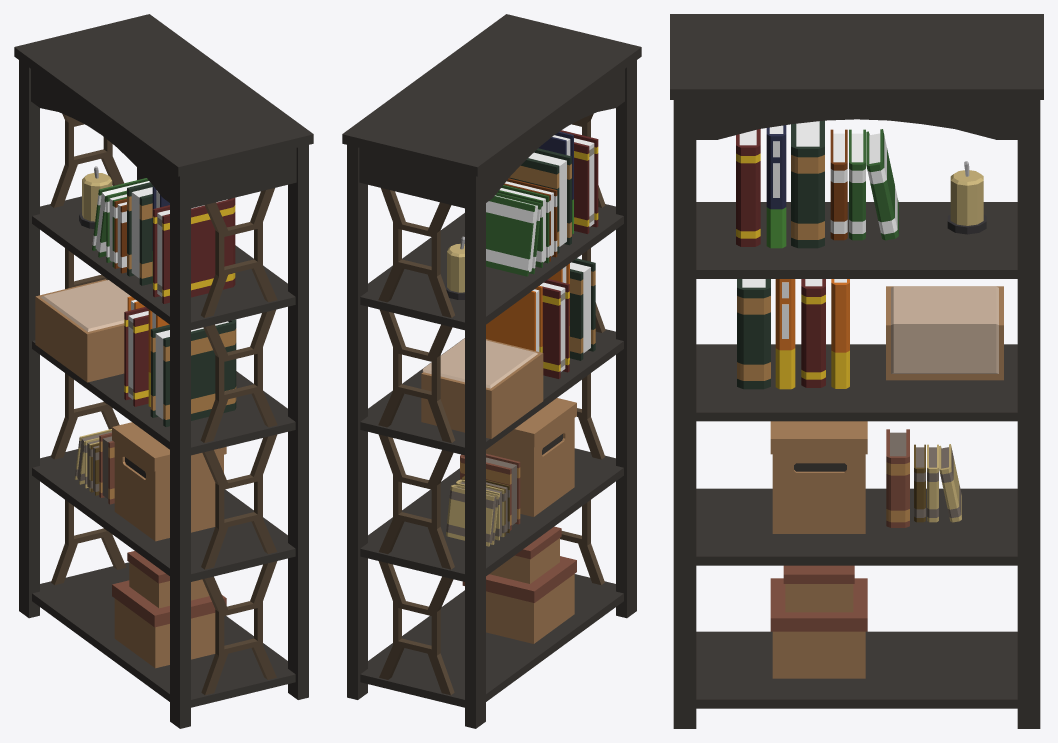
Rendered from SM_Bookcase_04.glb.
3 renders of one model, left to right at view 1: azimuth 30°, elevation 25°; view 2: azimuth 150°, elevation 25°; view 3: azimuth 270°, elevation 25°, orthographic. The views are drawn at different scales.
Parts seen in each view (by area): view 1: SM_Bookcase_04; view 2: SM_Bookcase_04; view 3: SM_Bookcase_04.
Boxes of the visible parts, x1,y1,x2,y2 form: SM_Bookcase_04: [14, 14, 313, 728]; SM_Bookcase_04: [342, 14, 641, 728]; SM_Bookcase_04: [670, 14, 1043, 728].
Size of the model in its own units: 0.5012 by 1.99 by 1.05.
Materials: 1 (1 with a texture image).
